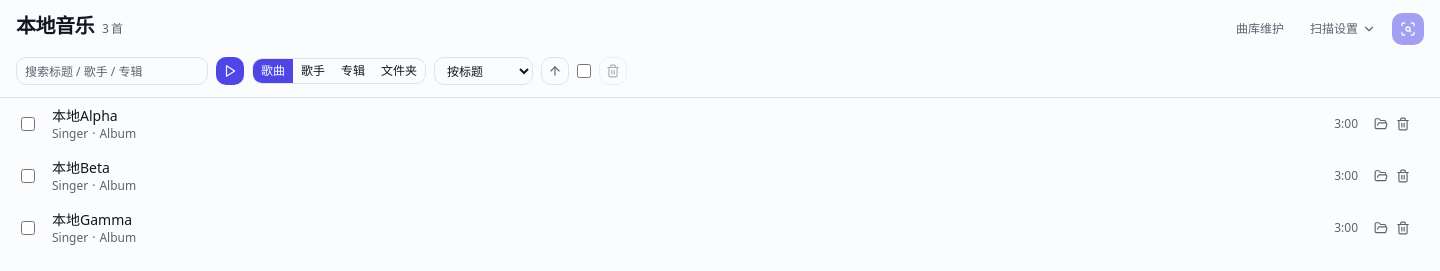
it: 本地曲库检索的批量删除范围 › 清空检索不恢复隐藏选择，半选与无结果计数匹配可见范围
Check: the text "本地Alpha" is shown, box [52,106,118,126]
Click the checkbox named "全选" at x=584, y=71, box [577,64,591,78]
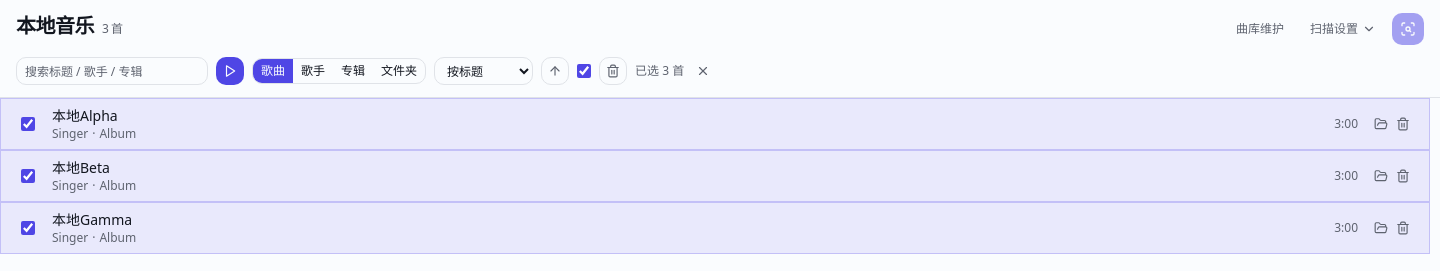
Type "alpha" into the field named "搜索本地歌曲" at x=112, y=71, box [16,57,208,85]
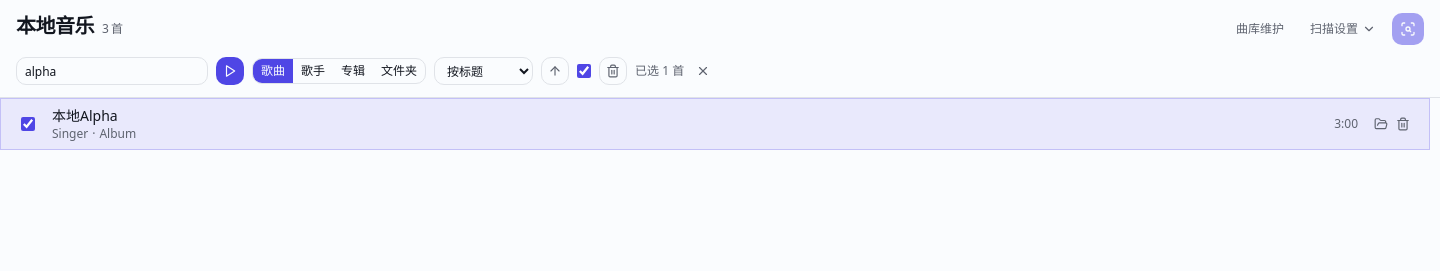
Clear the field named "搜索本地歌曲" at x=112, y=71, box [16,57,208,85]
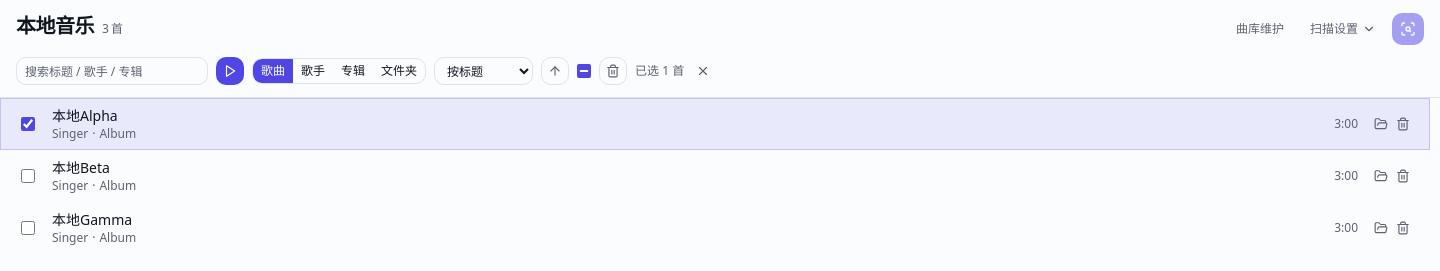
Check: the text "已选 1 首" is shown, box [635,63,684,79]
Check: the checkbox named "选择 本地Alpha" is checked, box [21,117,35,131]
Check: the checkbox named "选择 本地Beta" is not checked, box [21,169,35,183]
Type "no-match" into the field named "搜索本地歌曲" at x=112, y=71, box [16,57,208,85]
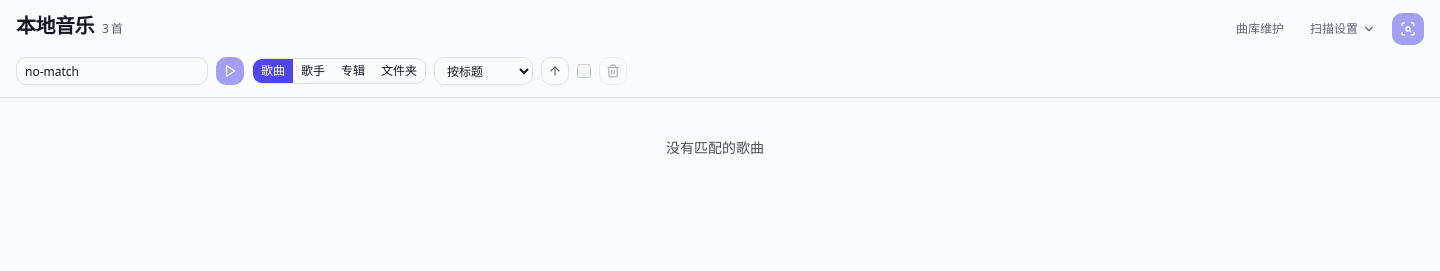
Check: the text "没有匹配的歌曲" is shown, box [666,138,764,158]
Check: the button named "批量删除" is disabled, box [599,57,627,85]
Clear the field named "搜索本地歌曲" at x=112, y=71, box [16,57,208,85]
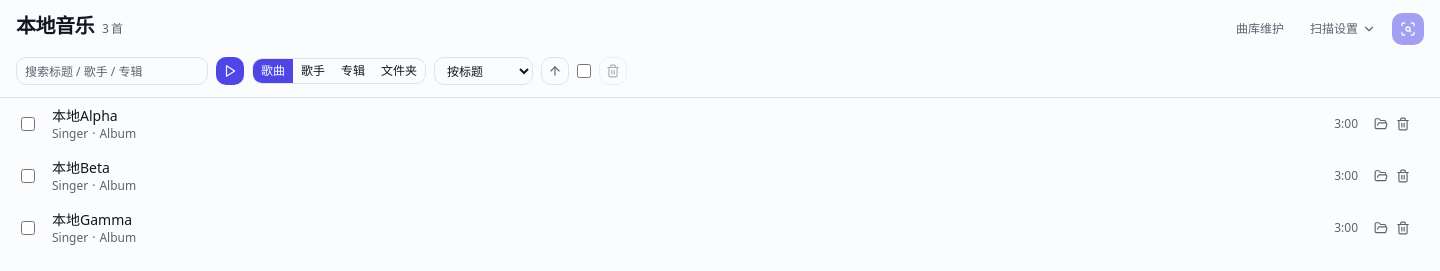
Check: the text "已选 1 首" is not shown
Check: the checkbox named "选择 本地Alpha" is not checked, box [21,117,35,131]
